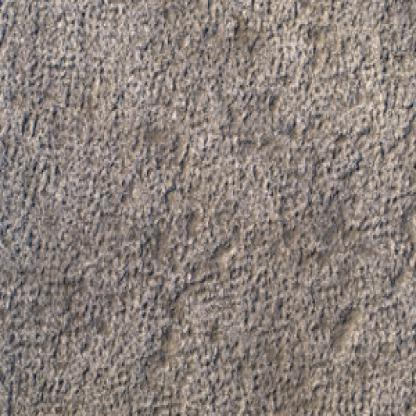Igneous_Basalt: (6, 7, 414, 414)
